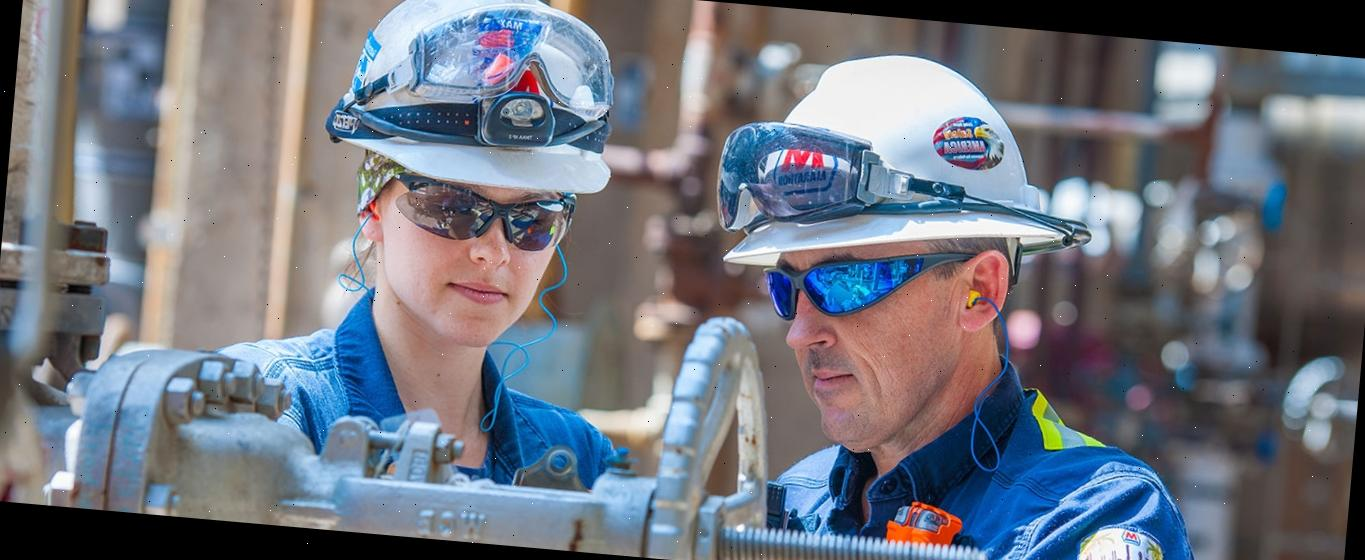helmet: (704, 36, 1104, 308), (317, 0, 636, 204)
